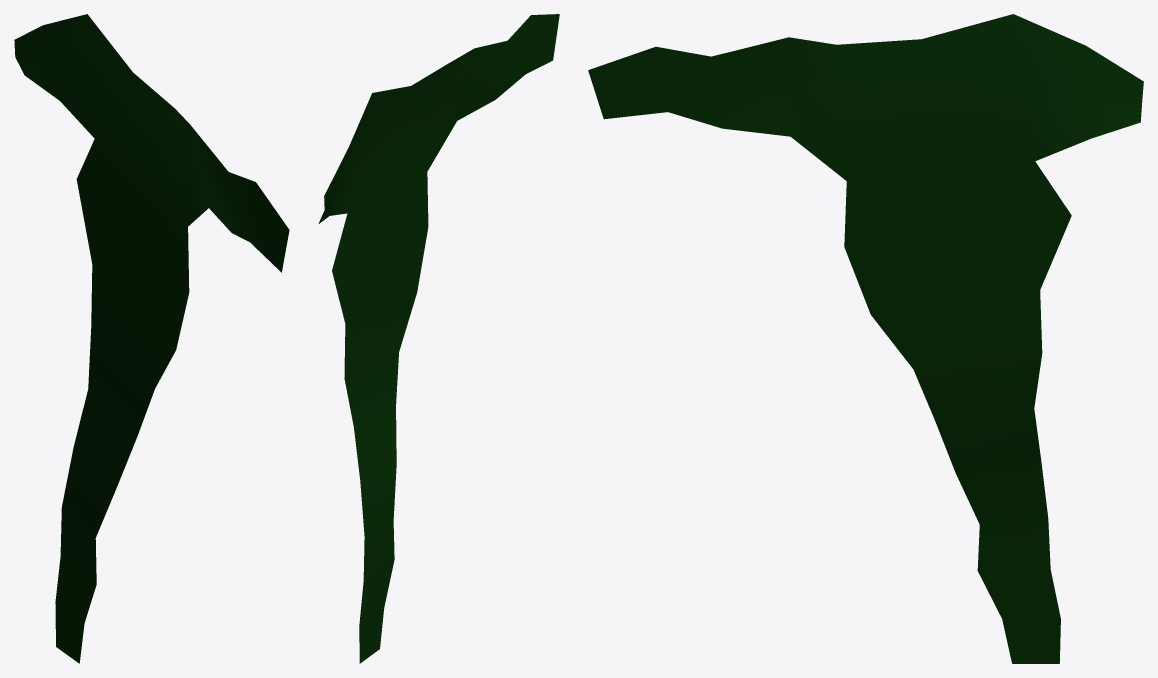
Rendered from Ivy_05.fbx.
3 renders of one model, left to right at view 1: azimuth 30°, elevation 25°; view 2: azimuth 150°, elevation 25°; view 3: azimuth 270°, elevation 25°, orthographic. The views are drawn at different scales.
Visible parts, largest first — view 1: Ivy_05_LOD0; view 2: Ivy_05_LOD0; view 3: Ivy_05_LOD0.
Part boxes in pixels (bbox=[...]): Ivy_05_LOD0: bbox=[14, 14, 289, 663]; Ivy_05_LOD0: bbox=[318, 14, 559, 663]; Ivy_05_LOD0: bbox=[588, 14, 1143, 663].
Size of what is drawn, in the model's own units: 11.5 by 268 by 207.
